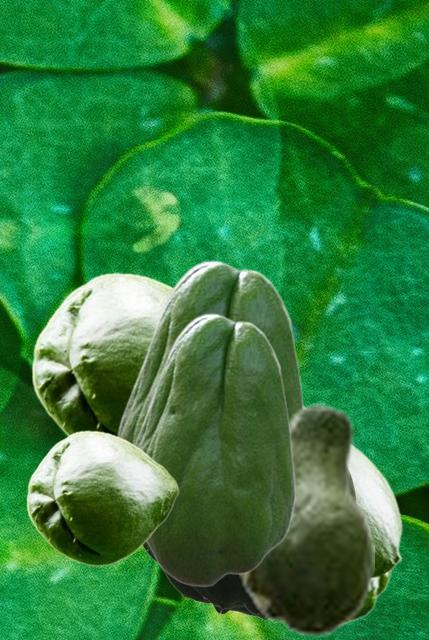sayote: (133, 313, 295, 586), (115, 260, 305, 442), (239, 403, 373, 637), (142, 476, 356, 620), (31, 272, 173, 435), (26, 430, 178, 565), (342, 443, 402, 628)
